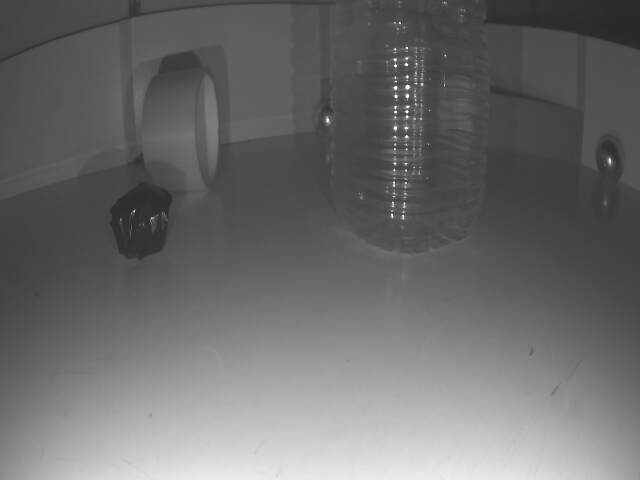Dead: (106, 185, 168, 256)
Live: (595, 133, 625, 184), (315, 99, 330, 132)
Point: (481, 98, 588, 163)
